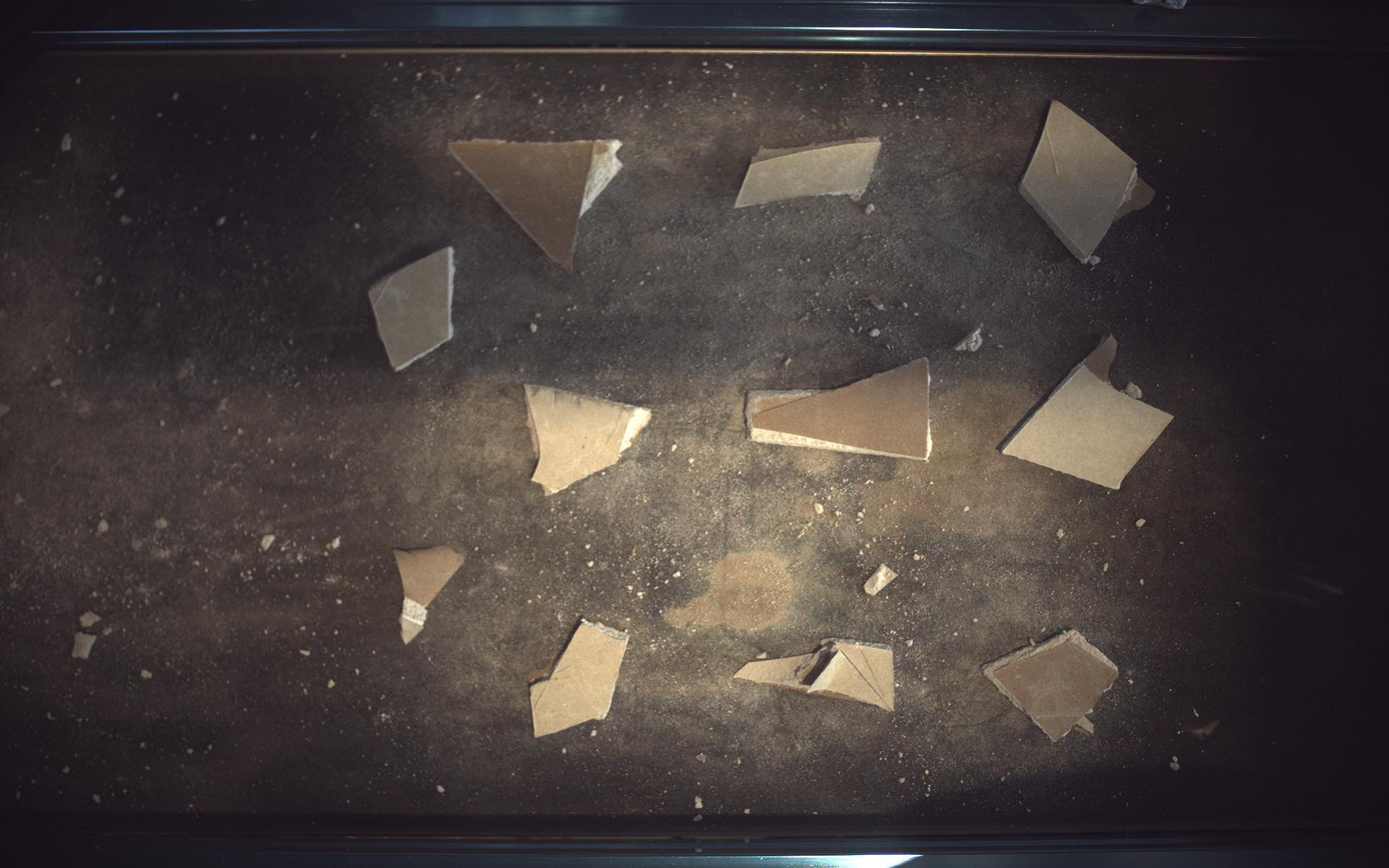gypsum_board: (1005, 333, 1175, 490), (449, 138, 623, 269), (1021, 99, 1158, 263), (747, 357, 934, 461), (985, 630, 1121, 743), (527, 385, 652, 495), (735, 639, 896, 712), (531, 621, 629, 738), (368, 247, 455, 370), (736, 135, 883, 207), (393, 545, 464, 644)
